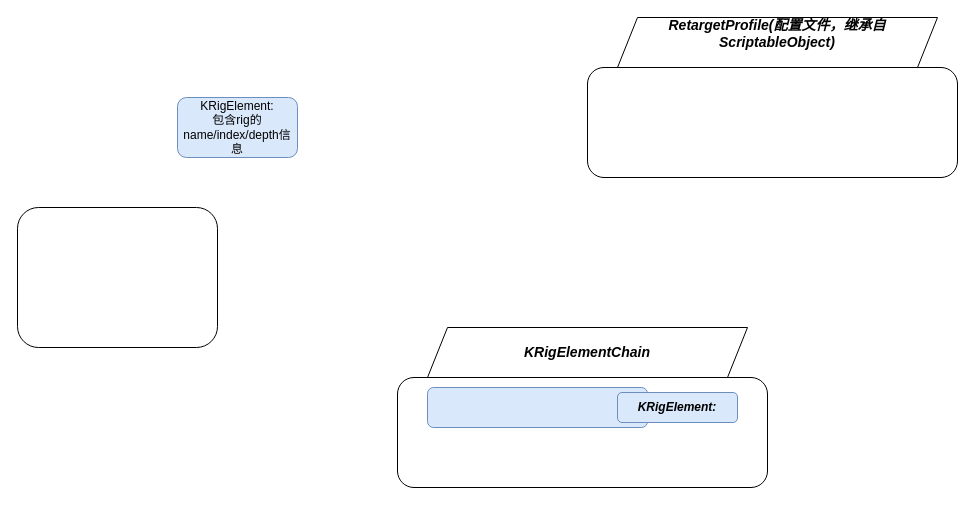
This 975x505 diagram has some shape labels left out. The centre of each missing label's shape, as x and y in pixels:
KPose: point (117, 277)
KRigElementChain: 是一个KRigElement的List: point (537, 407)
